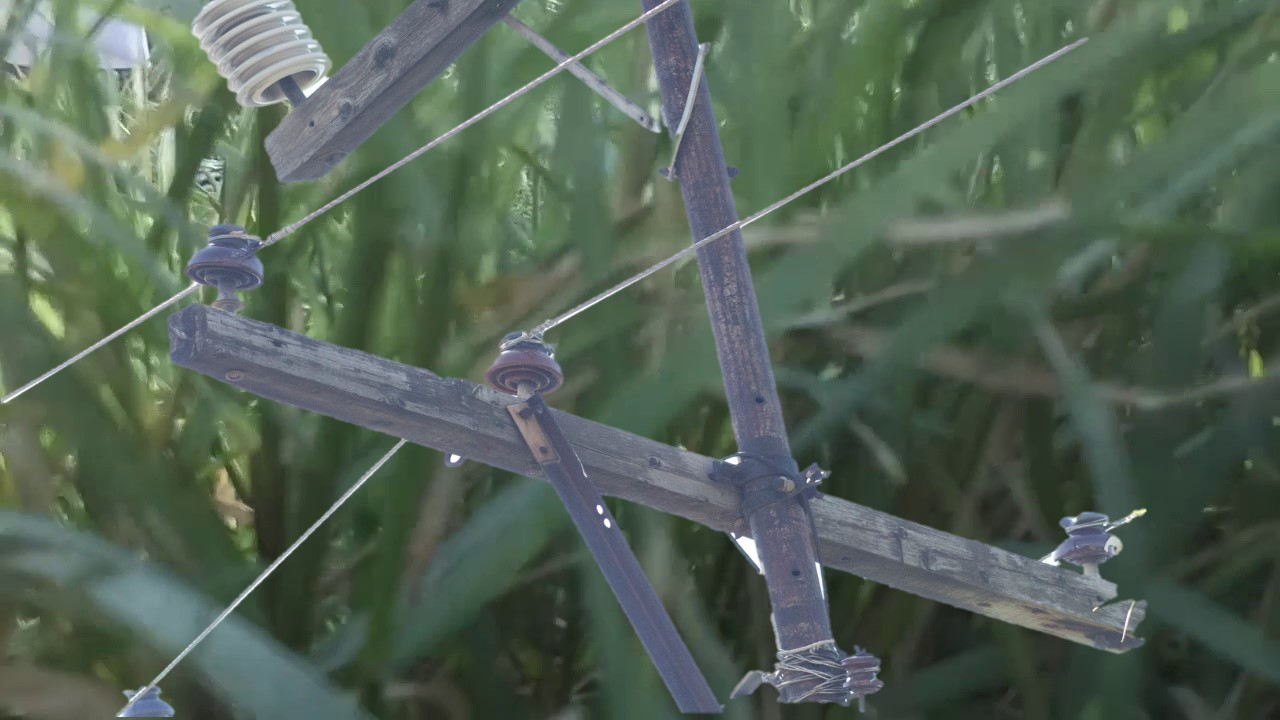defect_pin: (1050, 504, 1131, 572)
insulator_pin: (485, 328, 570, 401), (186, 222, 270, 292)
